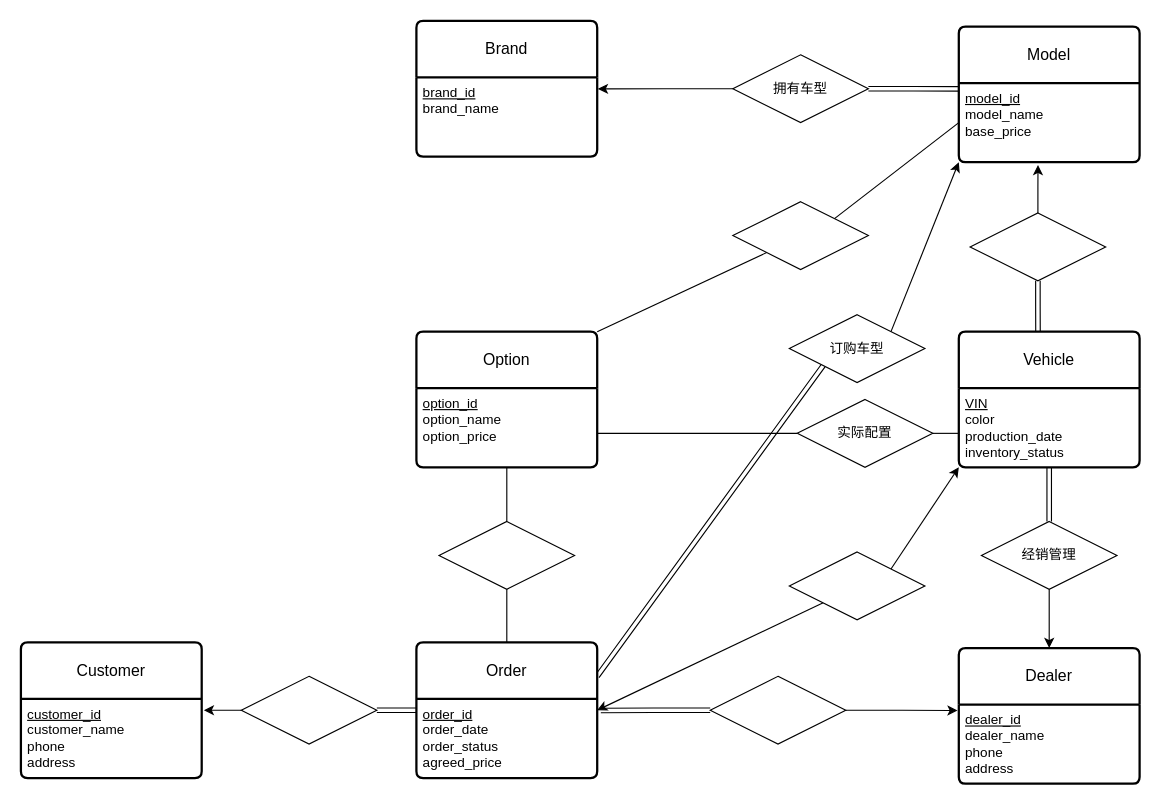
Some shapes in this 1159 by 803 pixel diagram are drawn without their labels. The shapes that lost their labels are listed below. From the top down, each one's centre as x and y in pixels, then its label:
the point at 800,235: 可选配置
the point at 1037,246: 属于车型
the point at 506,554: 订单配置
the point at 856,585: 交付车辆
the point at 308,709: 下单
the point at 777,709: 受理
